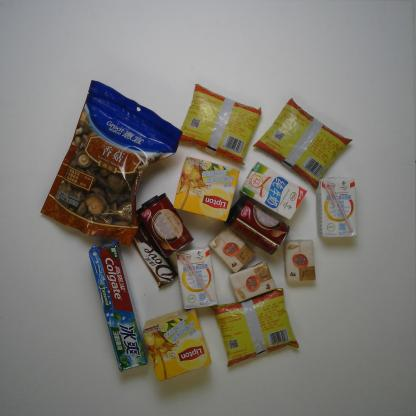Canned Food: (221, 194, 292, 257), (133, 189, 195, 261)
Chocolate: (131, 221, 179, 291)
Dried Food: (37, 75, 188, 250)
Instant Drink: (140, 304, 215, 384), (170, 153, 242, 224)
Milk: (238, 160, 310, 222), (173, 243, 220, 312), (313, 172, 360, 240)
Personal Hygiene: (85, 238, 151, 375)
Seasoner: (250, 94, 354, 192), (174, 80, 264, 168), (208, 286, 301, 370)
Tissue: (206, 224, 257, 275), (227, 260, 278, 304), (282, 236, 317, 284)
